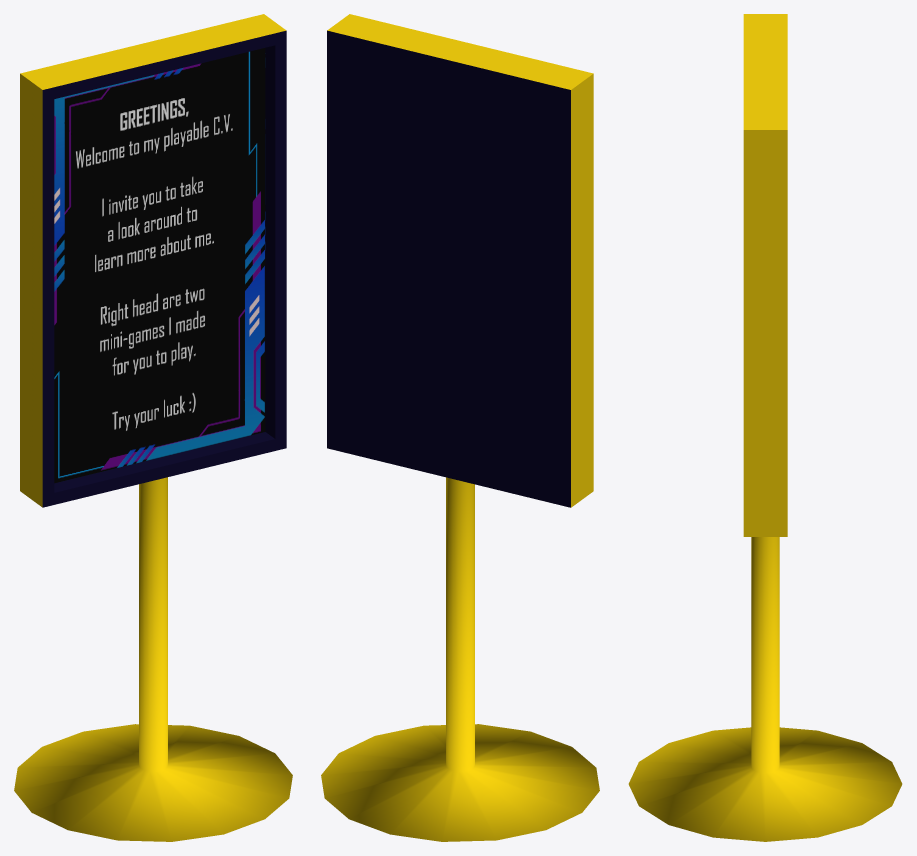
File: info_thing.glb
3 views of the same model, side by side, from view 1: azimuth 30°, elevation 25°; view 2: azimuth 150°, elevation 25°; view 3: azimuth 270°, elevation 25° (orthographic). The views are drawn at different scales.
Visible parts, largest first — view 1: Cylinder; view 2: Cylinder; view 3: Cylinder.
Part boxes in pixels (x1=…): Cylinder: x1=14, y1=14, x2=292, y2=841; Cylinder: x1=321, y1=14, x2=599, y2=841; Cylinder: x1=628, y1=14, x2=902, y2=841.
Size of the model in its own units: 0.6112 by 1.75 by 0.6103.
3 materials, 1 textured.
